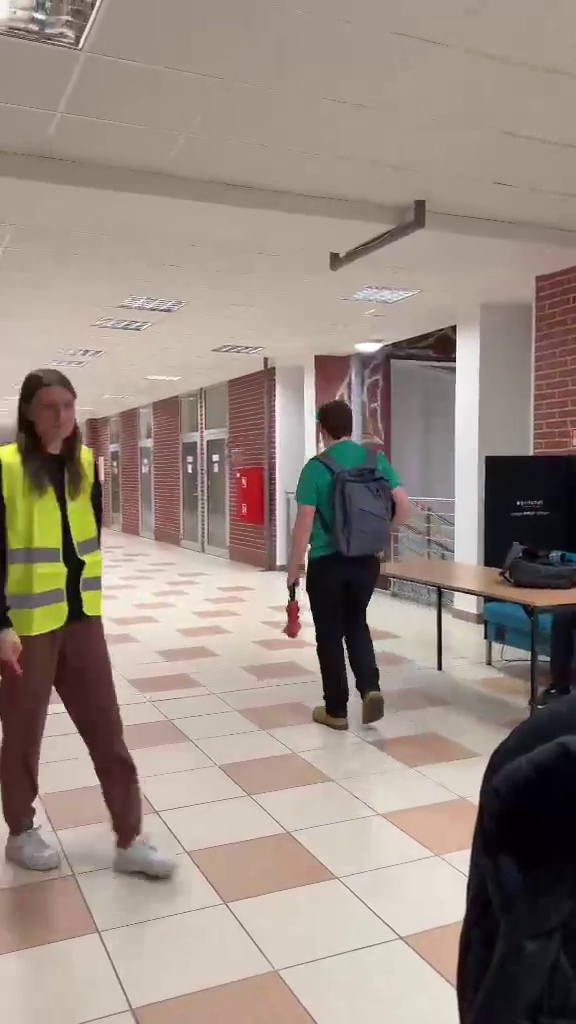no vest: (278, 386, 414, 725)
vest: (0, 360, 178, 877)
